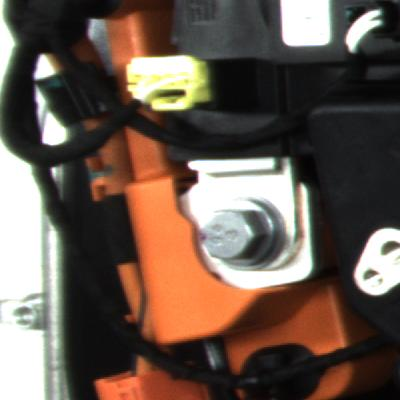nut_b: (191, 186, 286, 276)
